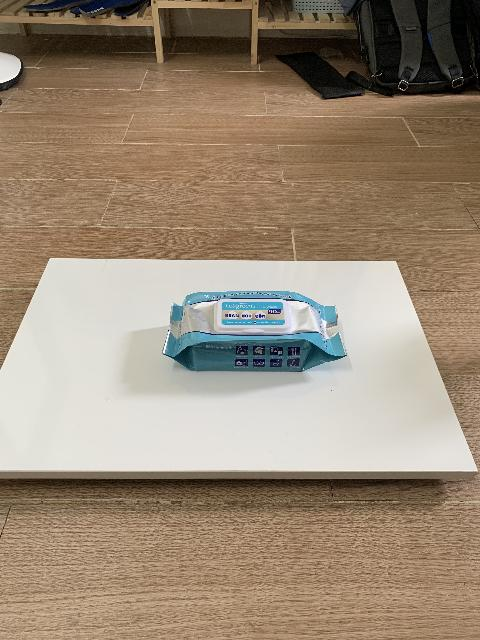Let-green_alcohol_wipes: (162, 291, 347, 373)
